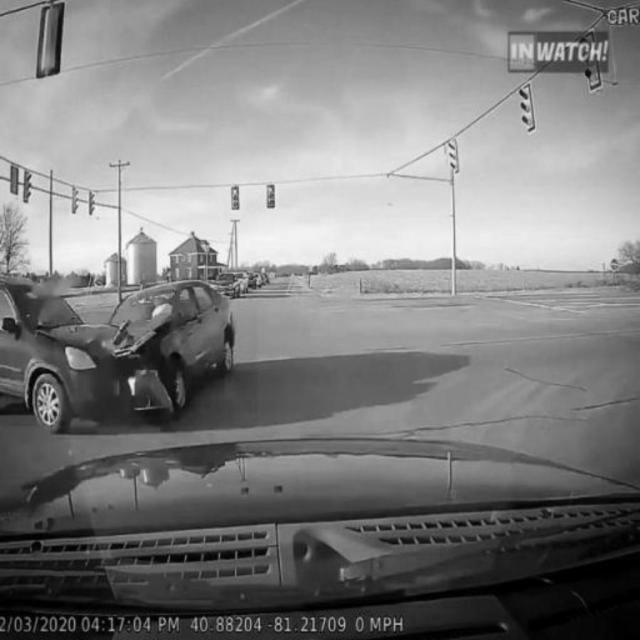accident: (0, 276, 257, 426)
